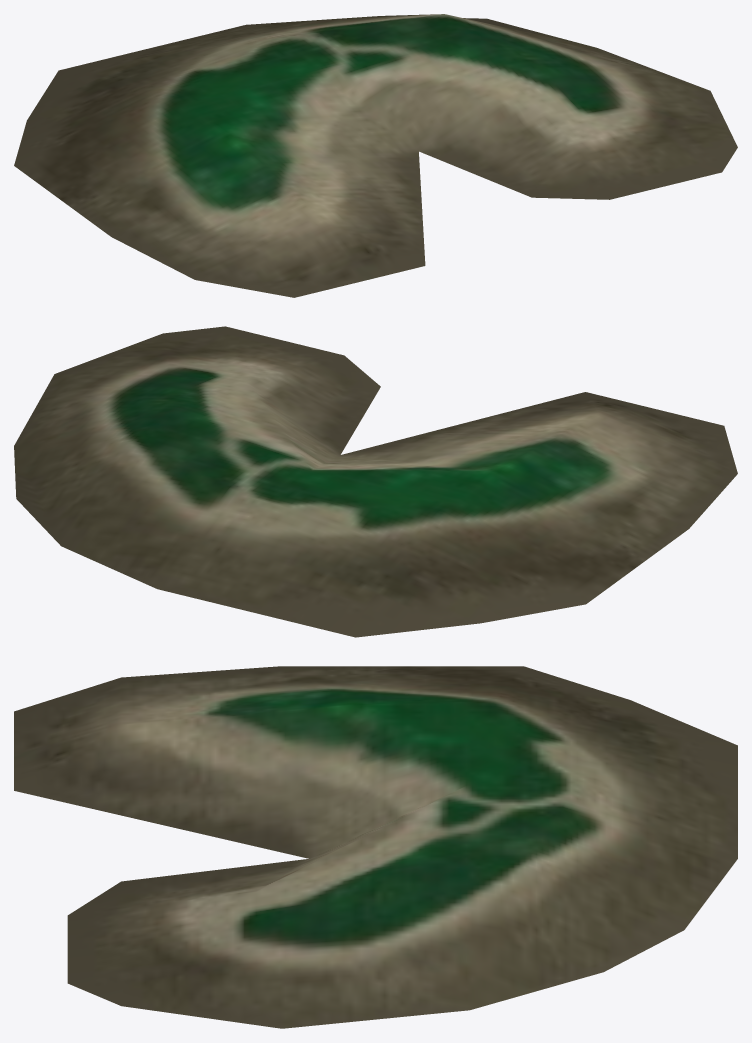
Rendered from pir_m_are_isl_rumRunner_low.fbx.
3 views of the same model, one above another, from view 1: azimuth 30°, elevation 25°; view 2: azimuth 150°, elevation 25°; view 3: azimuth 270°, elevation 25° (orthographic). The views are drawn at different scales.
Parts seen in each view (by area): view 1: horizon_lod; view 2: horizon_lod; view 3: horizon_lod.
Boxes of the visible parts, x1,y1,x2,y2 form: horizon_lod: (14,14,737,297); horizon_lod: (14,326,737,637); horizon_lod: (14,666,737,1028).
Bounding box in the file's own units: 160000 × 12762 × 135000.
Materials: 1 (1 with a texture image).
